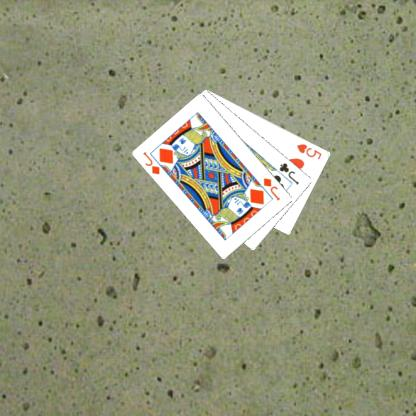5H: (294, 141, 324, 161)
JC: (276, 160, 300, 186)
JD: (140, 149, 162, 176), (261, 174, 281, 202)
